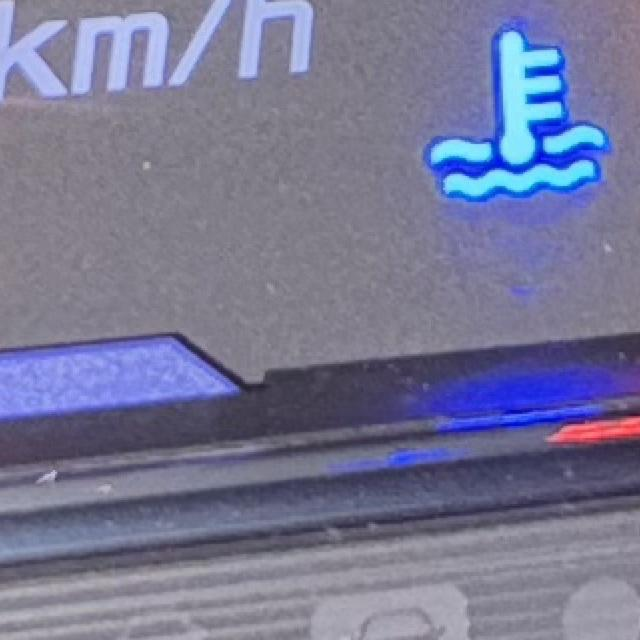High Engine Temperature: (424, 28, 612, 202)
